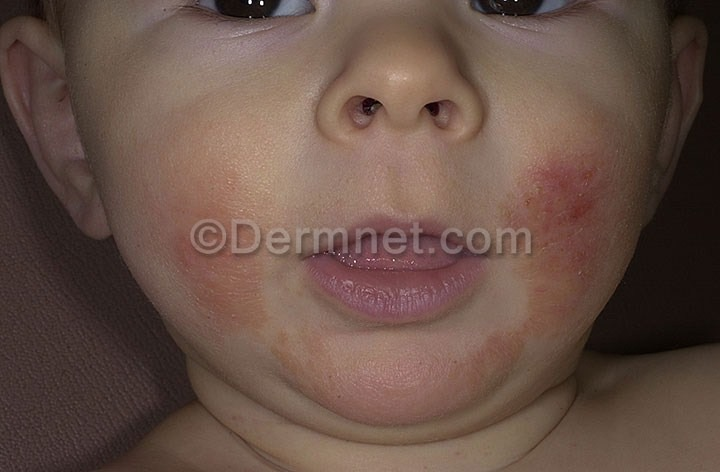Eczema: (483, 103, 652, 348), (157, 155, 298, 348), (311, 341, 526, 437)
